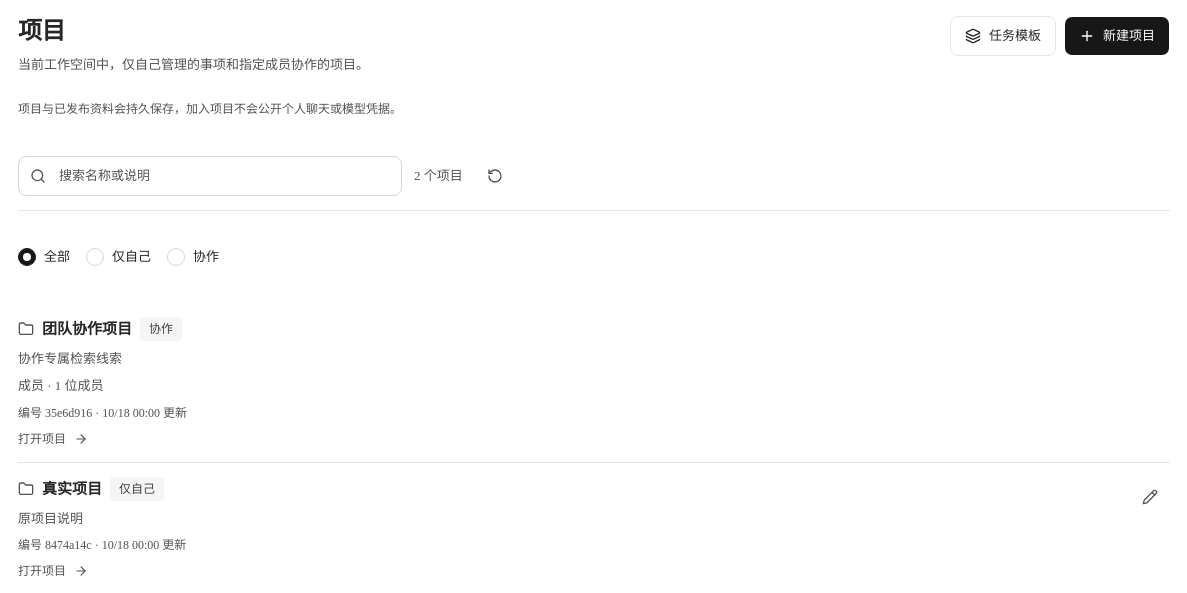
it: shadcn project and template workflows › searches names and descriptions across personal and shared projects and clears a combined no-match result
Expected: the link "团队协作项目" is shown, 18,317 -> 187,446
Expected: the text "2 个项目" is shown, 414,166 -> 463,186
Type "协作专属检索线索" into the search field named "搜索项目名称或说明" at (210, 176), box 18,156 -> 402,196
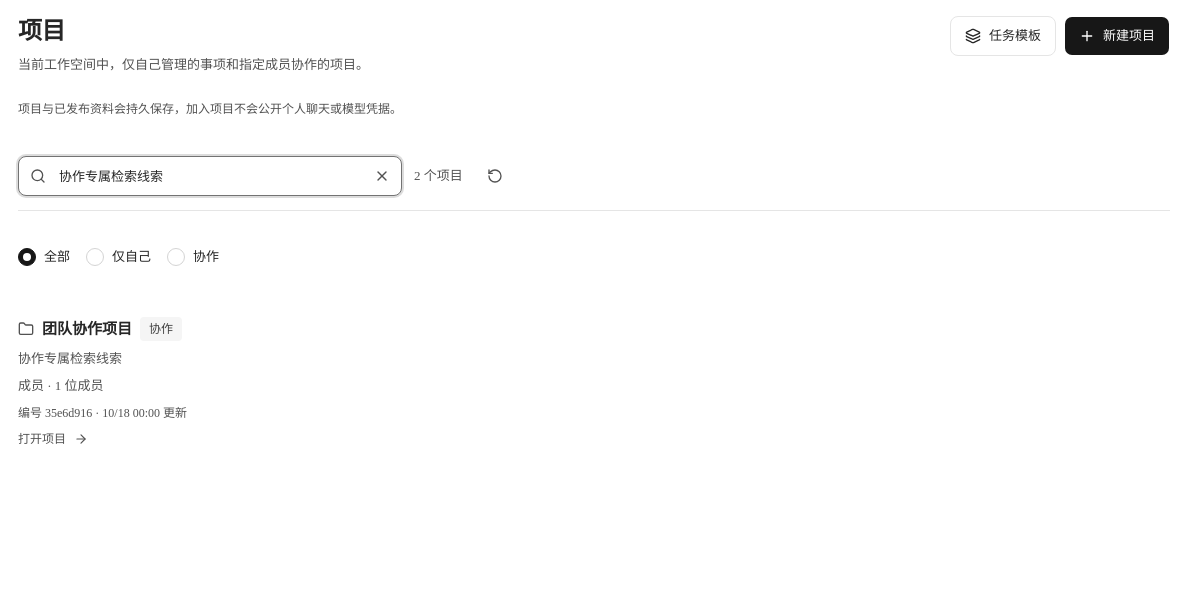
Expected: the link "团队协作项目" is shown, 18,317 -> 187,446
Result: the link "真实项目" is gone
Replace the text in the search field named "搜索项目名称或说明" with "原项目说明" at (210, 176), box 18,156 -> 402,196
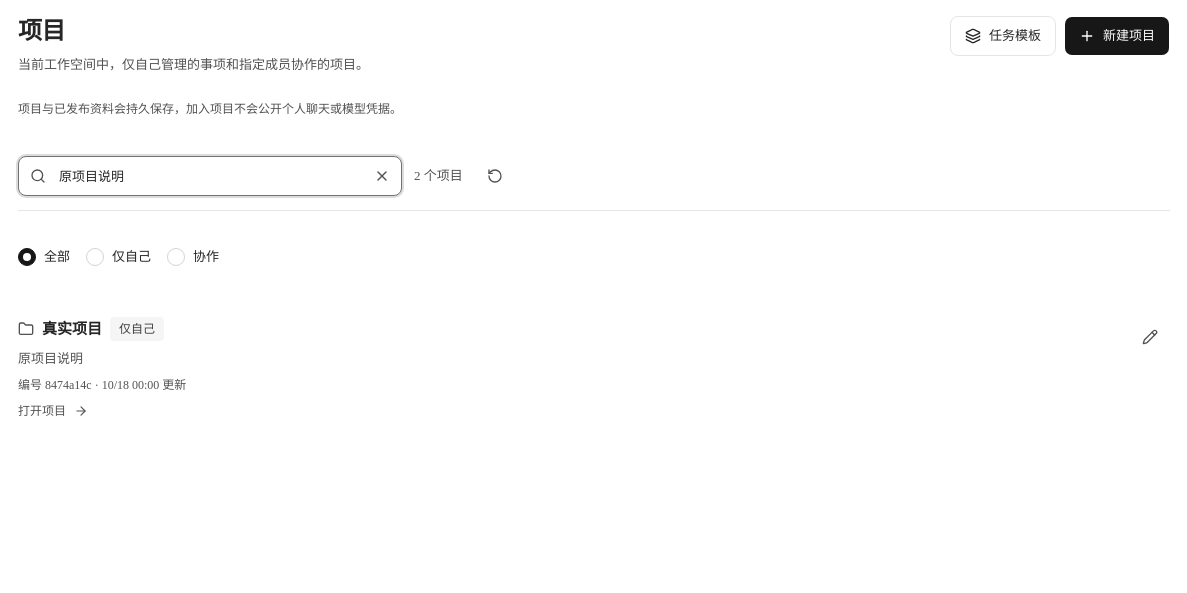
Expected: the text "没有找到相关项目" is not shown
Result: the heading "真实项目" is shown at 42,318 -> 102,340
Result: the link "团队协作项目" is gone
Replace the text in the search field named "搜索项目名称或说明" with "没有任何项目会匹配的关键词" at (210, 176), box 18,156 -> 402,196
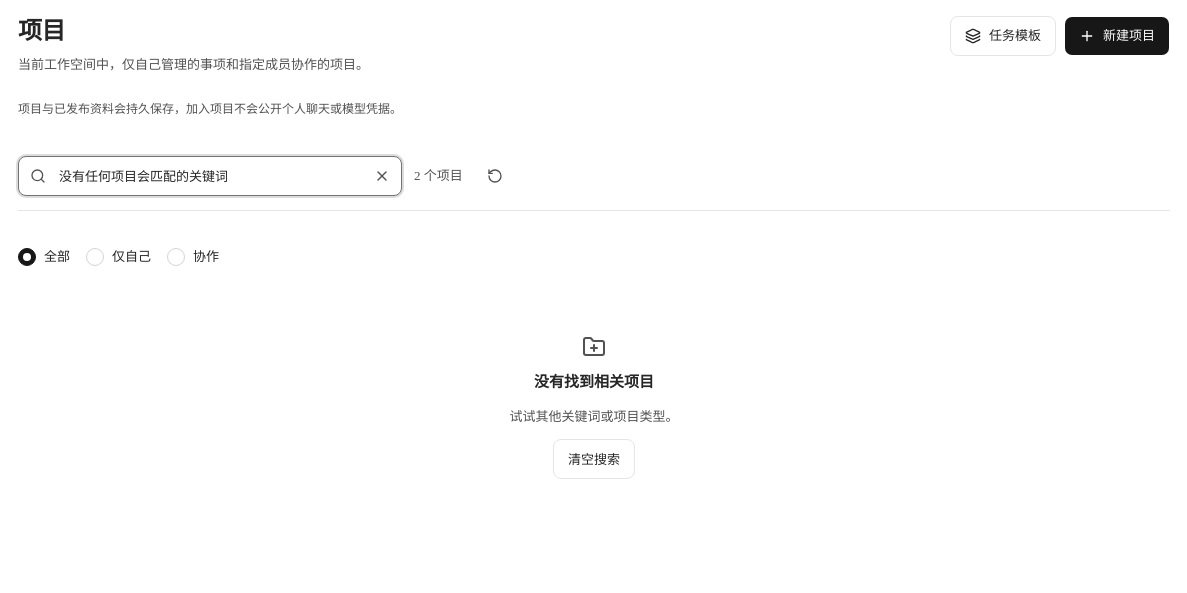
Expected: the link "真实项目" is not shown
Result: the heading "没有找到相关项目" is shown at 534,371 -> 654,394
Result: the link "团队协作项目" is gone
Click the button "清空搜索" at (594, 459), box 553,439 -> 635,479
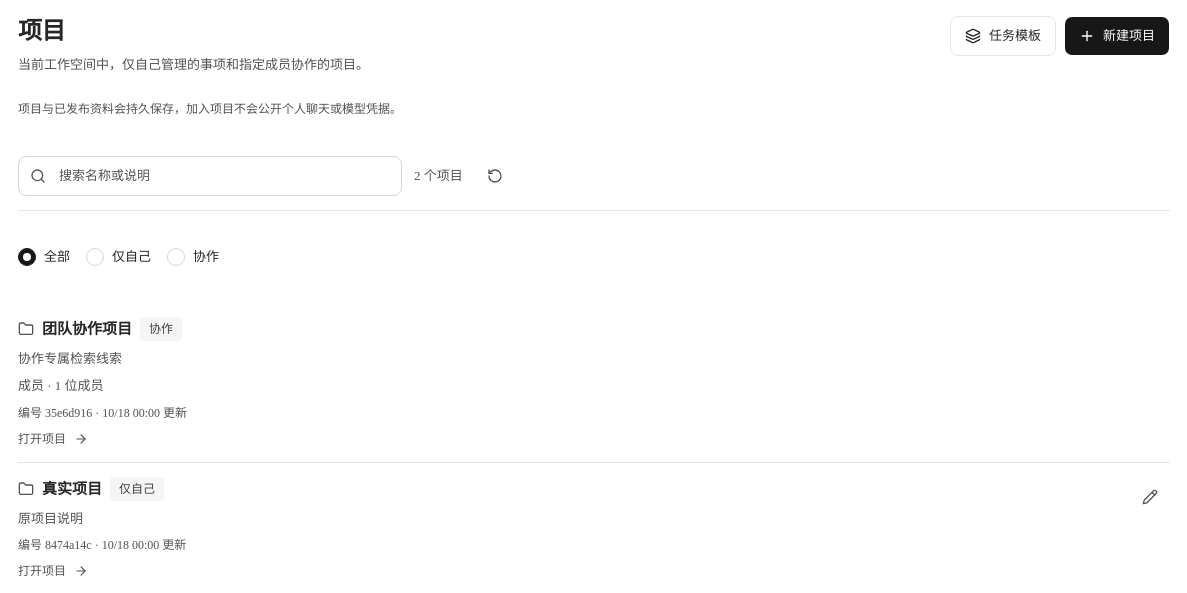
Result: the heading "真实项目" is shown at 42,478 -> 102,500
Result: the link "团队协作项目" is shown at 18,317 -> 187,446
Result: the heading "没有找到相关项目" is gone
